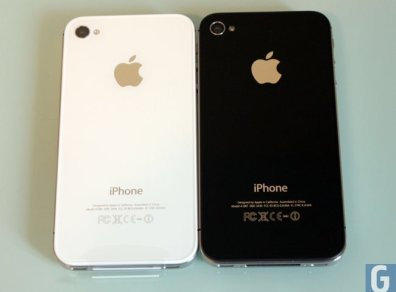apple: (239, 44, 287, 92), (106, 54, 158, 90)
